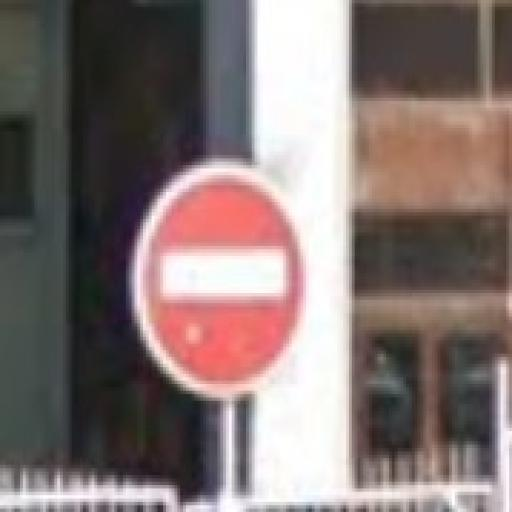traffic_sign: (130, 159, 313, 402)
